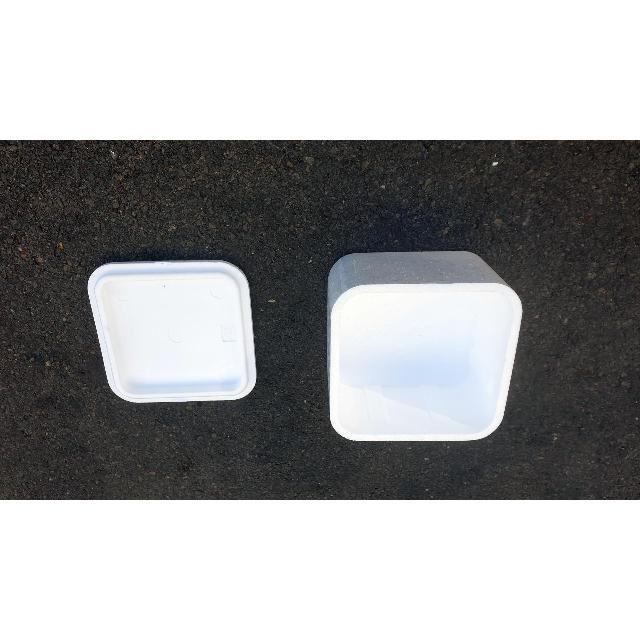Plastico descartable: (323, 249, 523, 444), (87, 261, 258, 407)
